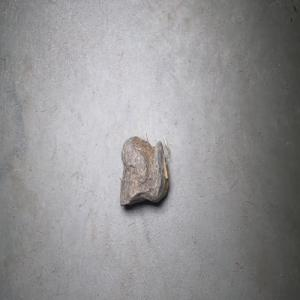Rock: (119, 133, 170, 206)
